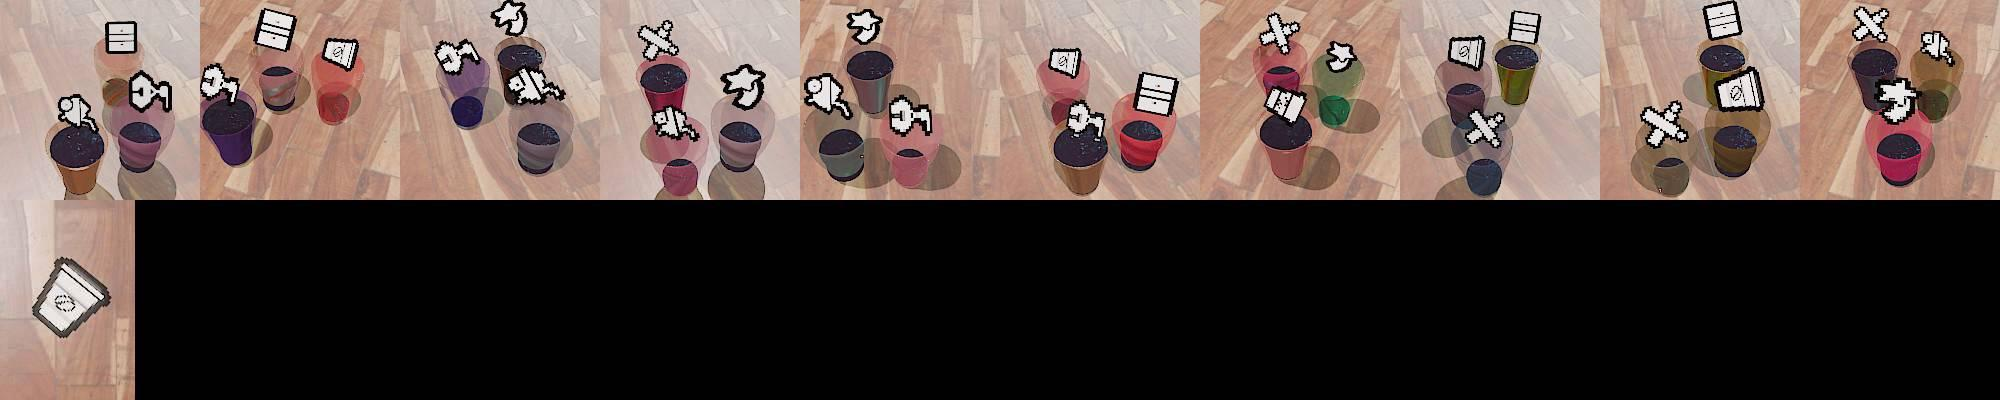icon: (32, 257, 111, 339), (1712, 66, 1765, 112), (506, 66, 568, 106), (1640, 98, 1689, 148), (719, 62, 767, 111), (1875, 75, 1922, 122), (802, 71, 851, 117), (1131, 71, 1179, 117), (128, 69, 175, 113), (635, 19, 681, 62), (254, 8, 297, 52), (888, 94, 934, 136), (432, 38, 481, 76), (1463, 107, 1506, 149), (651, 104, 699, 141), (200, 62, 242, 104), (1259, 11, 1297, 57), (1265, 83, 1309, 122), (1703, 0, 1742, 41), (1064, 99, 1105, 139), (489, 0, 529, 38), (56, 93, 97, 130), (1852, 5, 1890, 43), (1448, 34, 1486, 71), (846, 8, 883, 46), (320, 36, 360, 71), (1508, 9, 1542, 47), (1047, 46, 1082, 79), (105, 20, 138, 55), (1920, 29, 1954, 62), (1323, 41, 1357, 73)
